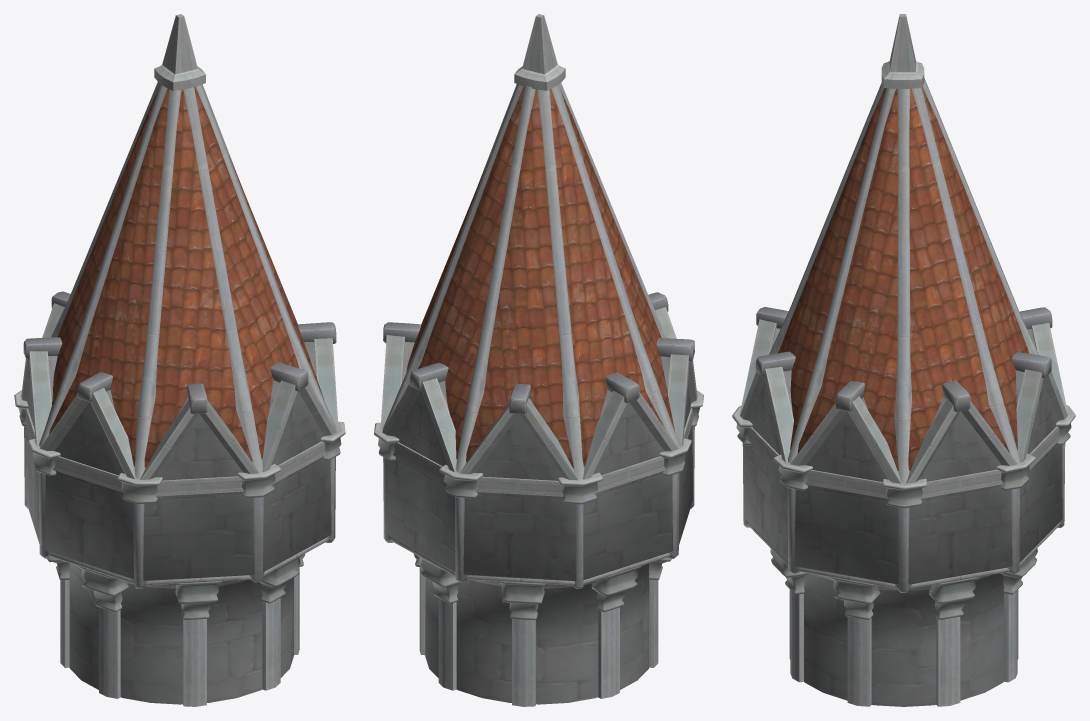
The model's file is SM_TowerD_Top_02.fbx.
3 renders of one model, left to right at view 1: azimuth 30°, elevation 25°; view 2: azimuth 150°, elevation 25°; view 3: azimuth 270°, elevation 25°, orthographic.
Visible parts, largest first — view 1: SM_TowerD_Top_02_LOD0; view 2: SM_TowerD_Top_02_LOD0; view 3: SM_TowerD_Top_02_LOD0.
Part boxes in pixels (x1,y1,x2,y2): SM_TowerD_Top_02_LOD0: [14, 14, 345, 706]; SM_TowerD_Top_02_LOD0: [374, 14, 703, 706]; SM_TowerD_Top_02_LOD0: [732, 14, 1075, 706].
Size of what is drawn, in the model's own units: 601 by 1243 by 601.
